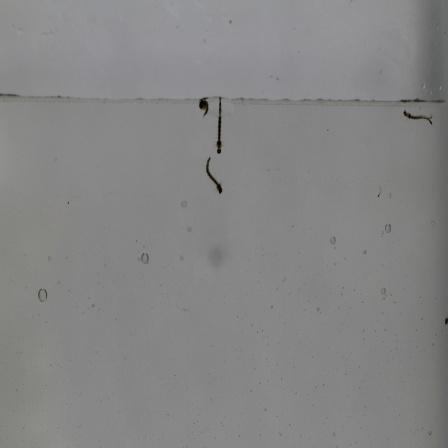Jentik-Nyamuk: (203, 156, 224, 196), (400, 107, 436, 129), (213, 97, 224, 154), (196, 96, 210, 119)
